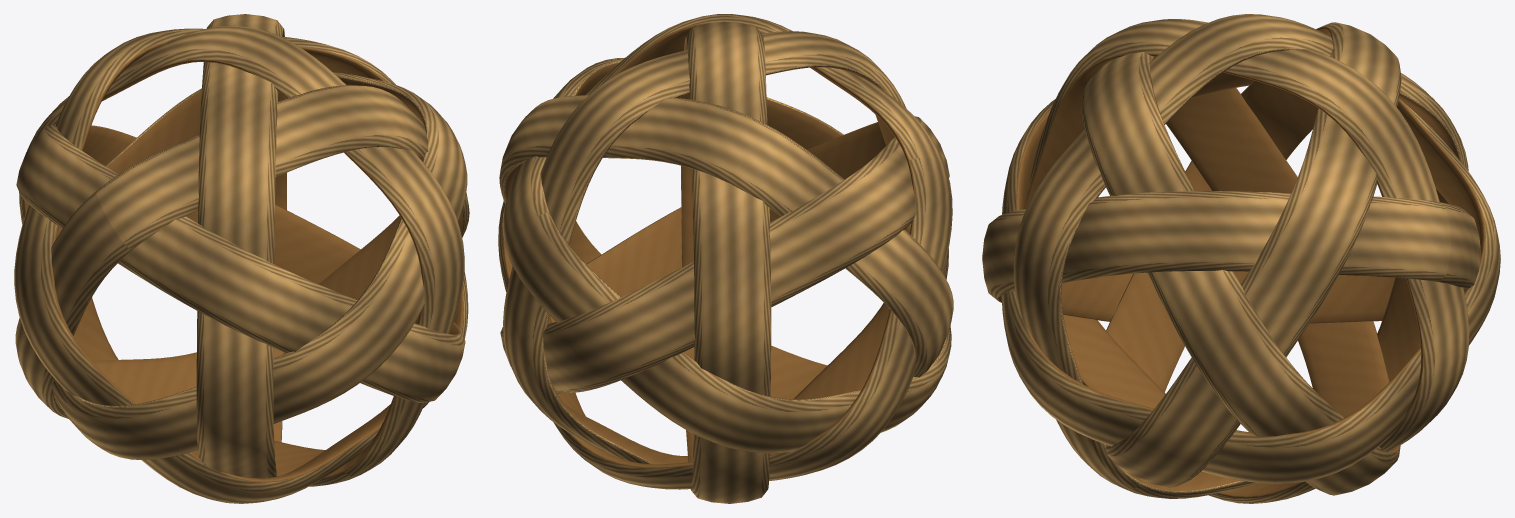
Rendered from bola_raga.glb.
The picture shows the model from 3 angles, left to right: view 1: azimuth 30°, elevation 25°; view 2: azimuth 150°, elevation 25°; view 3: azimuth 270°, elevation 25°; orthographic projection. The views are drawn at different scales.
Visible parts, largest first — view 1: b1; view 2: b1; view 3: b1.
Part boxes in pixels (bbox=[...]): b1: bbox=[14, 14, 469, 503]; b1: bbox=[498, 14, 953, 503]; b1: bbox=[982, 14, 1500, 503].
Bounding box in the file's own units: 0.14 × 0.14 × 0.14.
Materials: 1 (1 with a texture image).
